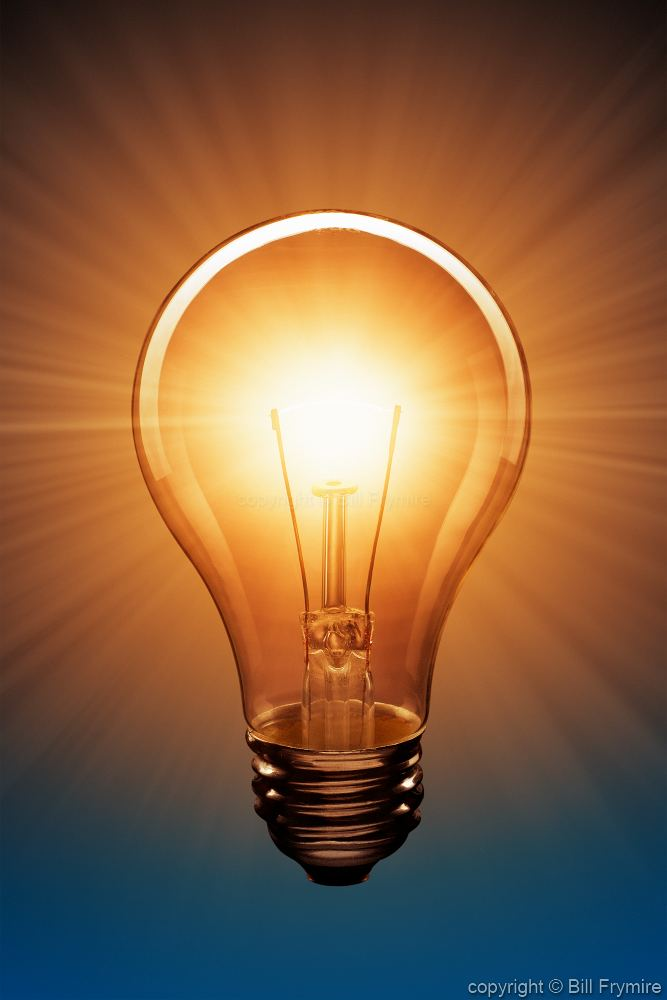Nonrec_Glass: (120, 150, 539, 886)
